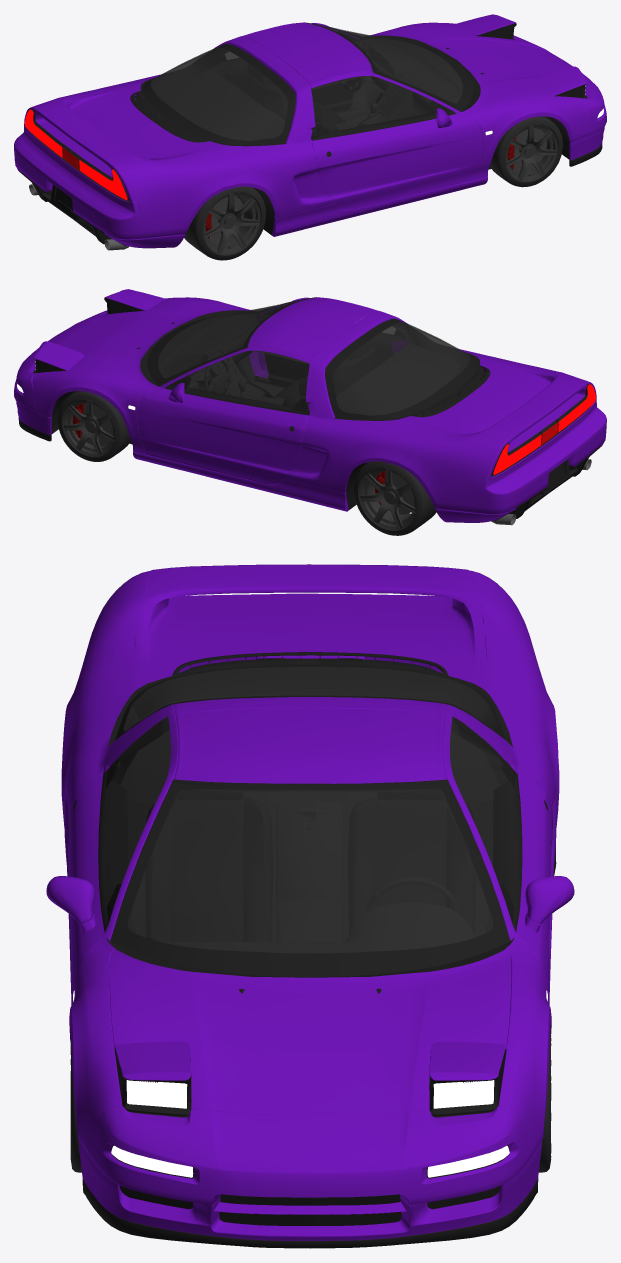
The model's file is VUT_1.glb.
3 renders of one model, top to bottom at view 1: azimuth 30°, elevation 25°; view 2: azimuth 150°, elevation 25°; view 3: azimuth 270°, elevation 25°, orthographic. The views are drawn at different scales.
Parts seen in each view (by area): view 1: Honda NSX_4, Rear Wheels_3, Front Right Wheels_1, Pop up_2; view 2: Honda NSX_4, Rear Wheels_3, Front Left Wheels_0, Pop up_2; view 3: Honda NSX_4, Pop up_2.
Part boxes in pixels (bbox=[...]): Honda NSX_4: bbox=[14, 22, 606, 250]; Rear Wheels_3: bbox=[184, 186, 265, 260]; Front Right Wheels_1: bbox=[490, 116, 562, 187]; Pop up_2: bbox=[455, 14, 587, 98]; Honda NSX_4: bbox=[14, 297, 606, 525]; Rear Wheels_3: bbox=[353, 461, 436, 535]; Front Left Wheels_0: bbox=[57, 391, 130, 461]; Pop up_2: bbox=[33, 289, 165, 373]; Honda NSX_4: bbox=[46, 564, 574, 1248]; Pop up_2: bbox=[114, 1041, 505, 1116].
Bounding box in the file's own units: 3.79 × 0.9414 × 1.66.
